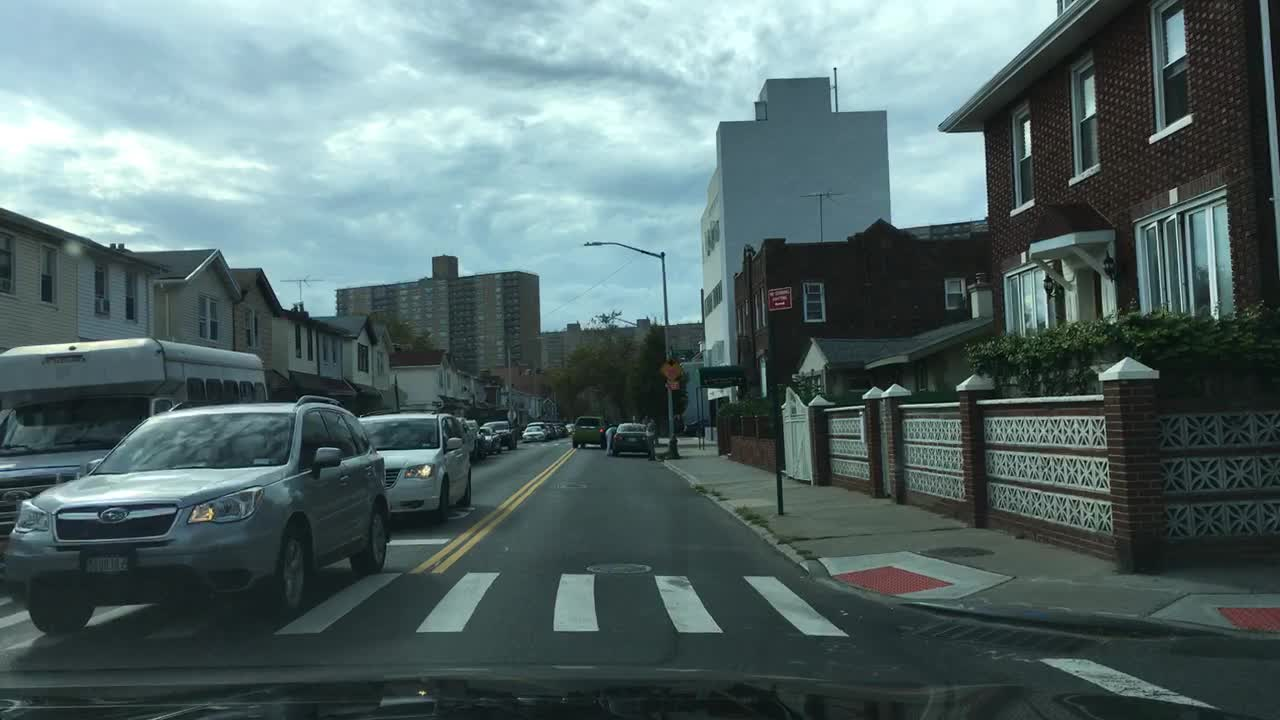bus: (0, 334, 270, 593)
car: (0, 389, 391, 634), (354, 408, 476, 524), (610, 419, 651, 457), (454, 414, 486, 462), (570, 414, 611, 450), (480, 420, 519, 449), (475, 426, 504, 456), (519, 423, 552, 446), (525, 419, 556, 435), (550, 420, 571, 440), (564, 420, 576, 441)
person: (642, 417, 656, 460), (602, 426, 617, 459)
traffic sign: (766, 285, 795, 312), (659, 355, 684, 383), (663, 380, 681, 395), (506, 406, 518, 425)
